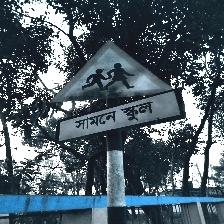School-in-front: (52, 40, 185, 143)
